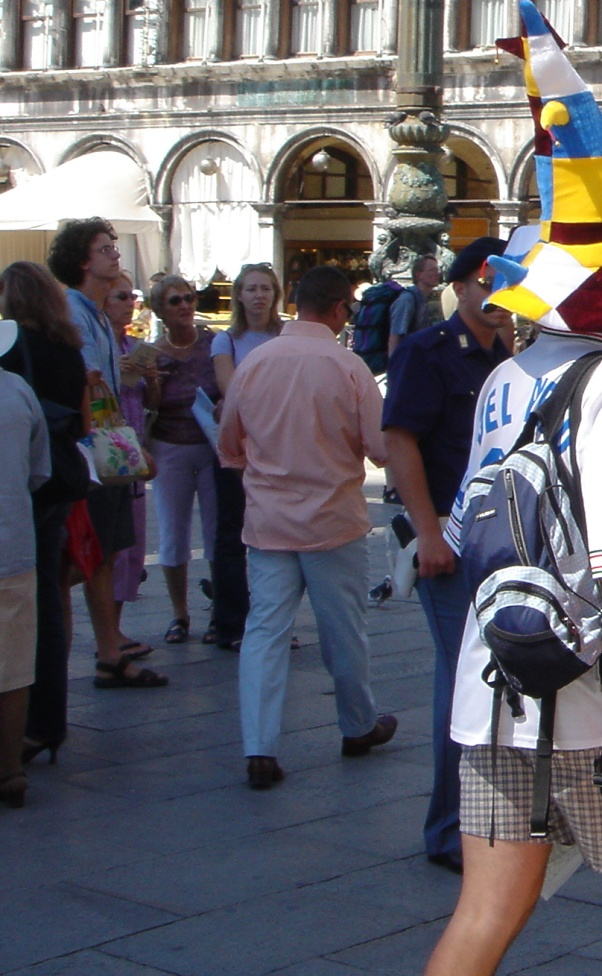person: (210, 266, 403, 786), (127, 276, 230, 647)
